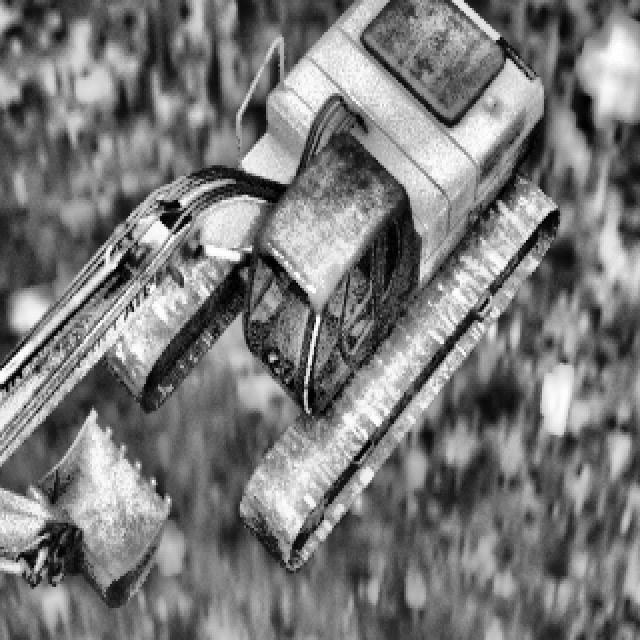excavator: (0, 0, 558, 605)
